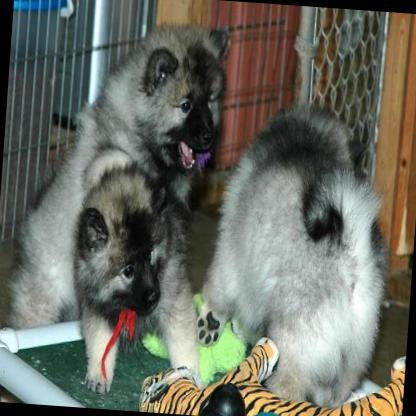keeshond: (5, 9, 230, 342), (191, 94, 397, 406), (62, 142, 222, 401)
